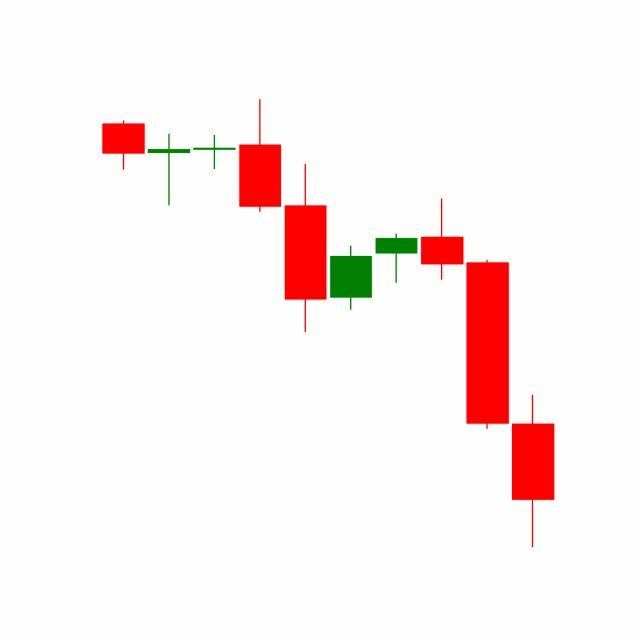Hikkake Pattern: (283, 162, 512, 433)
